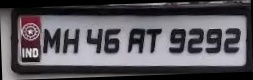character: (167, 27, 186, 54), (103, 27, 121, 55), (126, 27, 145, 53), (186, 26, 204, 53), (62, 26, 79, 54), (42, 28, 61, 53), (145, 27, 163, 53), (223, 27, 241, 53), (86, 27, 103, 54), (205, 27, 222, 53)
